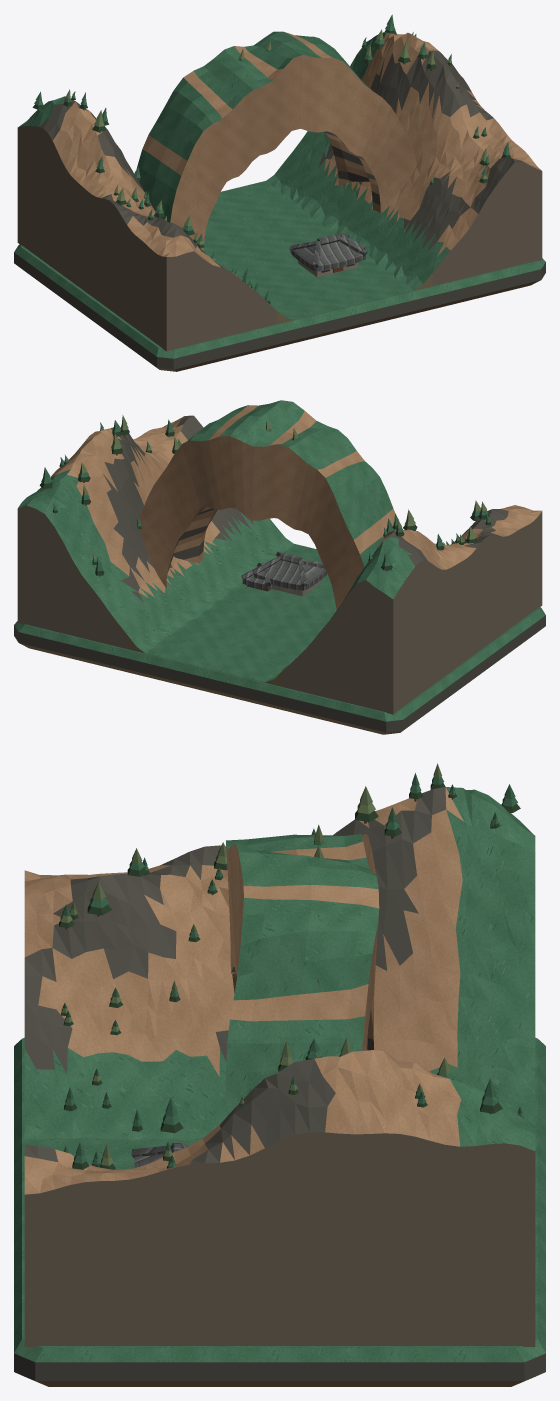
The model's file is wulong.glb.
3 views of the same model, one above another, from view 1: azimuth 30°, elevation 25°; view 2: azimuth 150°, elevation 25°; view 3: azimuth 270°, elevation 25° (orthographic). The views are drawn at different scales.
Parts seen in each view (by area): view 1: 武隆天生三桥; view 2: 武隆天生三桥; view 3: 武隆天生三桥.
Boxes of the visible parts, <box> form: 武隆天生三桥: <box>14,14,545,371</box>; 武隆天生三桥: <box>14,400,545,734</box>; 武隆天生三桥: <box>14,763,545,1386</box>.
Bounding box in the file's own units: 6.15 × 3.41 × 4.25.
Materials: 13 (6 with a texture image).
